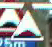Speed Breaker ahead: (1, 0, 44, 46)
